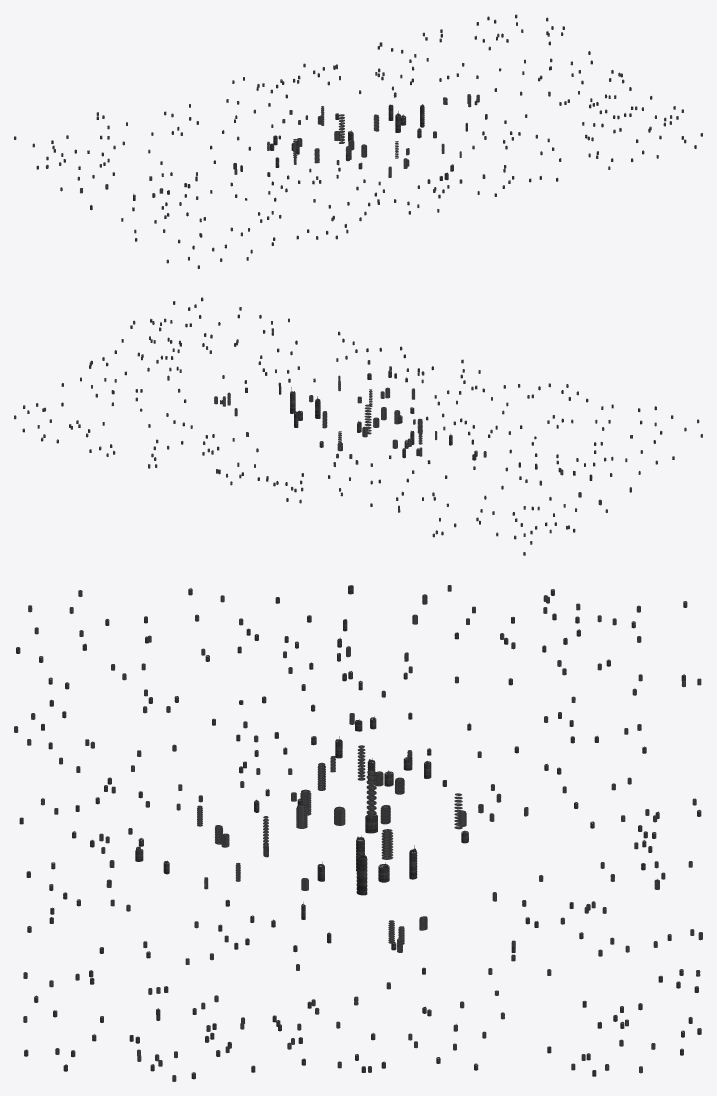
3 renders of one model, top to bottom at view 1: azimuth 30°, elevation 25°; view 2: azimuth 150°, elevation 25°; view 3: azimuth 270°, elevation 25°, orthographic. The views are drawn at different scales.
Parts seen in each view (by area): view 1: Scatter city_SC low-poly building facade_0.032, Scatter city_SC low-poly building facade_0.033, Scatter city_SC low-poly building facade_0.027, Scatter city_SC low-poly building facade_0.028, Scatter city_SC low-poly building facade_0.031, Scatter city_SC low-poly building facade_0.030, Scatter city_SC low-poly building facade_0.029; view 2: Scatter city_SC low-poly building facade_0.033, Scatter city_SC low-poly building facade_0.032, Scatter city_SC low-poly building facade_0.027, Scatter city_SC low-poly building facade_0.028, Scatter city_SC low-poly building facade_0.031, Scatter city_SC low-poly building facade_0.029, Scatter city_SC low-poly building facade_0.030; view 3: Scatter city_SC low-poly building facade_0.033, Scatter city_SC low-poly building facade_0.032, Scatter city_SC low-poly building facade_0.027, Scatter city_SC low-poly building facade_0.031, Scatter city_SC low-poly building facade_0.028, Scatter city_SC low-poly building facade_0.029, Scatter city_SC low-poly building facade_0.030.
Part boxes in pixels (<box>): Scatter city_SC low-poly building facade_0.032: <box>32,26,696,263</box>; Scatter city_SC low-poly building facade_0.033: <box>46,17,686,268</box>; Scatter city_SC low-poly building facade_0.027: <box>36,19,661,248</box>; Scatter city_SC low-poly building facade_0.028: <box>78,14,678,249</box>; Scatter city_SC low-poly building facade_0.031: <box>14,16,696,260</box>; Scatter city_SC low-poly building facade_0.030: <box>132,22,702,240</box>; Scatter city_SC low-poly building facade_0.029: <box>112,31,683,241</box>; Scatter city_SC low-poly building facade_0.033: <box>14,304,699,537</box>; Scatter city_SC low-poly building facade_0.032: <box>27,297,702,544</box>; Scatter city_SC low-poly building facade_0.027: <box>43,315,655,532</box>; Scatter city_SC low-poly building facade_0.028: <box>22,319,662,524</box>; Scatter city_SC low-poly building facade_0.031: <box>41,299,656,555</box>; Scatter city_SC low-poly building facade_0.029: <box>42,307,674,500</box>; Scatter city_SC low-poly building facade_0.030: <box>23,301,632,500</box>; Scatter city_SC low-poly building facade_0.033: <box>23,585,702,1073</box>; Scatter city_SC low-poly building facade_0.032: <box>14,590,662,1081</box>; Scatter city_SC low-poly building facade_0.027: <box>82,589,684,1042</box>; Scatter city_SC low-poly building facade_0.031: <box>16,601,701,1079</box>; Scatter city_SC low-poly building facade_0.028: <box>26,585,701,1072</box>; Scatter city_SC low-poly building facade_0.029: <box>49,588,680,1060</box>; Scatter city_SC low-poly building facade_0.030: <box>48,615,698,1076</box>.
Size of the model in its own units: 49.99 by 2.44 by 29.62.
Materials: 1 (1 with a texture image).
